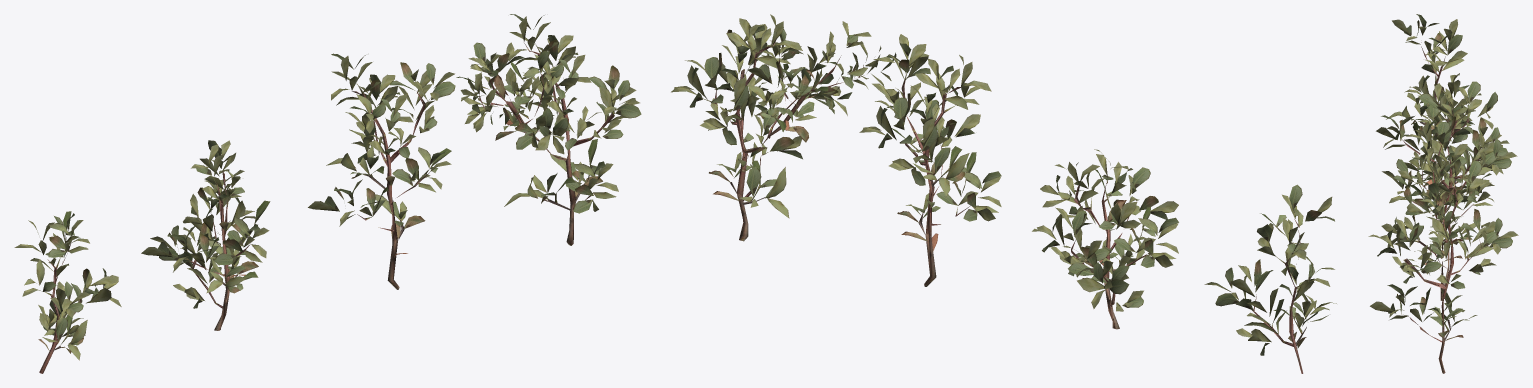
The model's file is Shrub_04.glb.
3 renders of one model, left to right at view 1: azimuth 30°, elevation 25°; view 2: azimuth 150°, elevation 25°; view 3: azimuth 270°, elevation 25°, orthographic. The views are drawn at different scales.
Parts seen in each view (by area): view 1: shrub_04; view 2: shrub_04; view 3: shrub_04.
Boxes of the visible parts, left/top/right/bottom form: shrub_04: left=14, top=14, right=641, bottom=373; shrub_04: left=671, top=14, right=1336, bottom=373; shrub_04: left=1368, top=14, right=1518, bottom=373.
Size of the model in its own units: 0.5837 by 0.2192 by 0.1461.
Materials: 1 (1 with a texture image).
